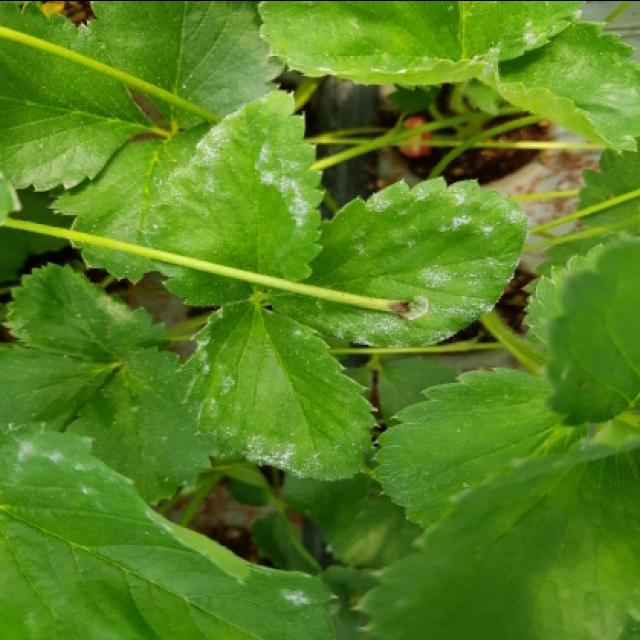Powdery Mildew Leaf: (0, 421, 338, 638), (262, 176, 532, 349), (136, 89, 326, 307), (176, 301, 379, 480), (258, 0, 583, 86), (477, 9, 638, 152)
